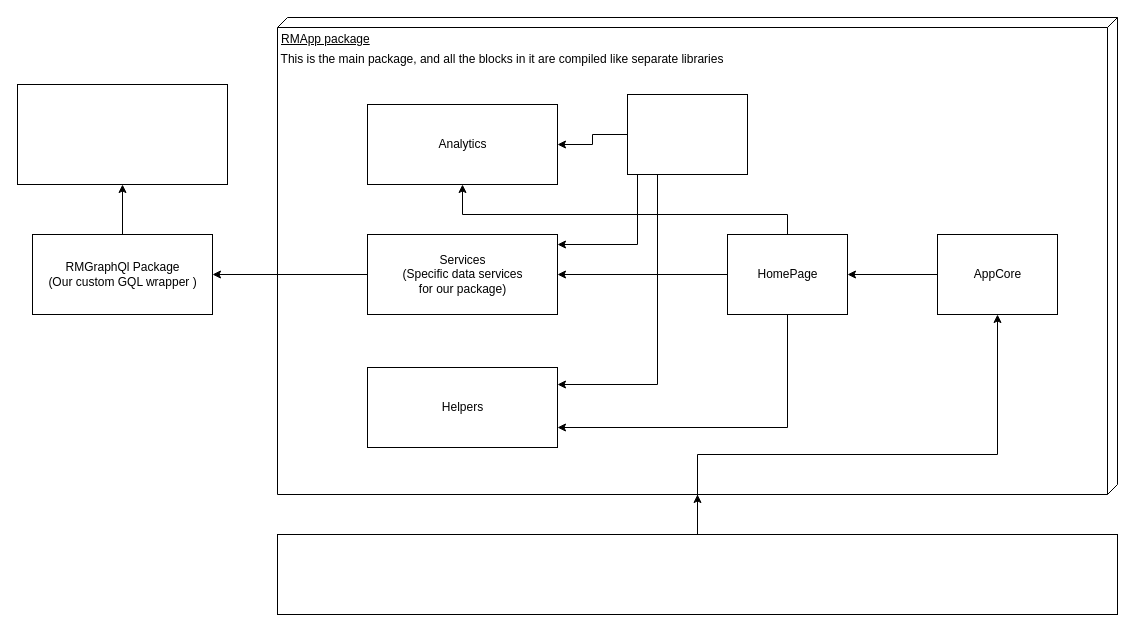
This 1135x632 diagram has some shape labels left out. The centre of each missing label's shape, as x and y in pixels:
Api Package (Generated from GQL commands in RMGraphQl by Apollo): (x=122, y=134)
DetailPage: (x=687, y=134)
RM iOS App: (x=697, y=574)
